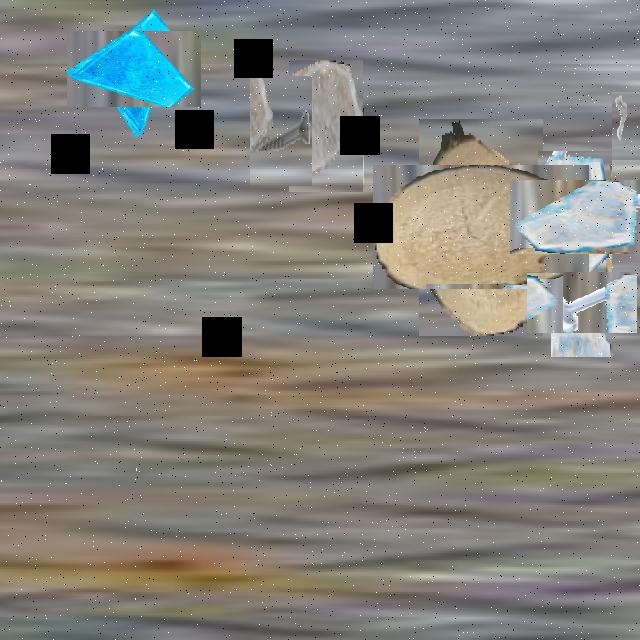glass: (81, 17, 187, 122), (524, 166, 626, 268), (289, 60, 363, 192)
metal: (539, 259, 625, 345), (250, 76, 312, 186), (612, 92, 640, 160)
wood: (396, 142, 566, 313)
